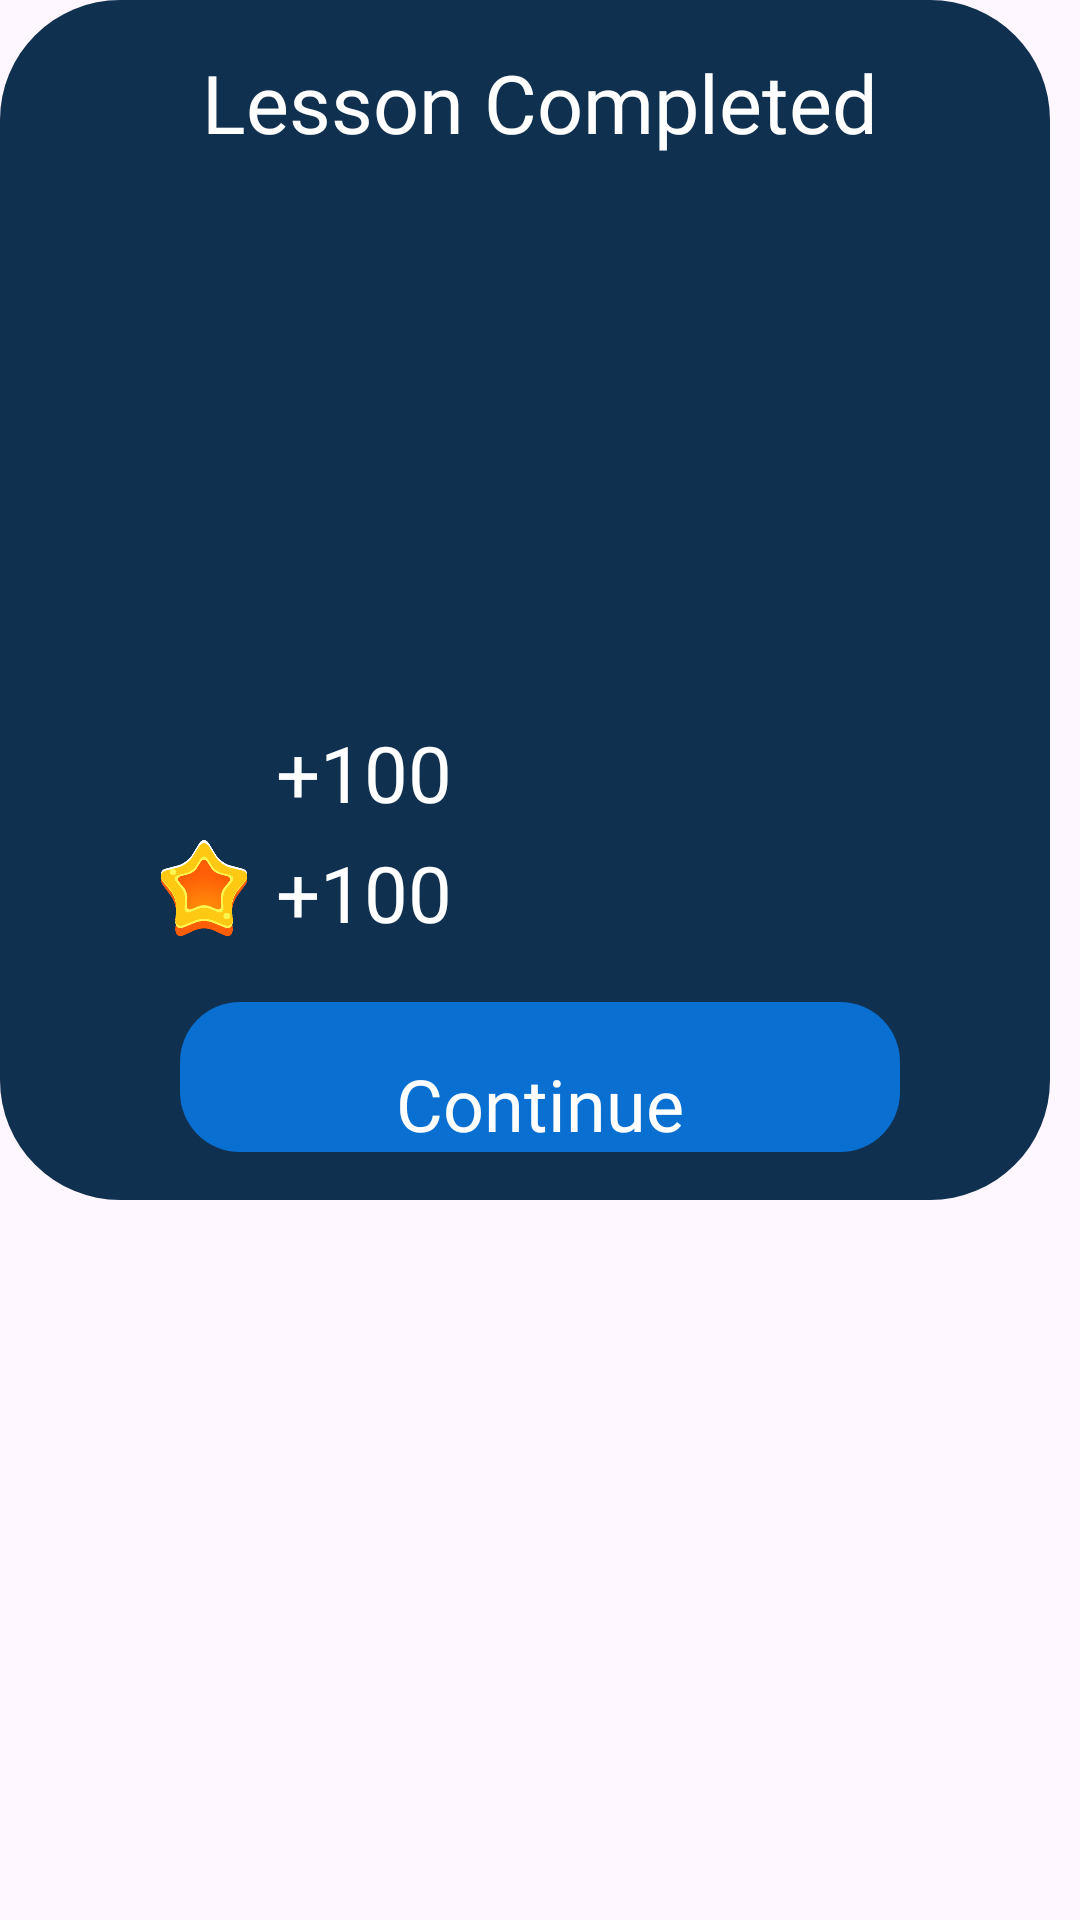

Locate icon controls on the screen. Image size 1080px×1920px, boxes as (x1, y1, x2, y2).
star leaderboard: (161, 840, 247, 936)
